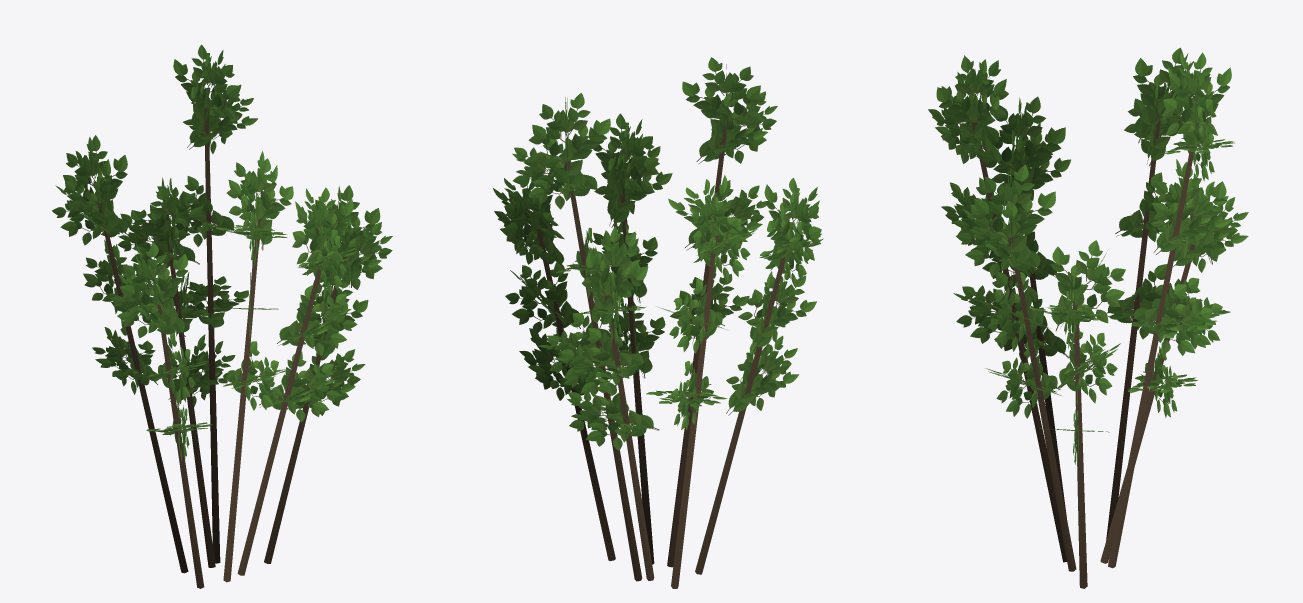
File: Tall Shrub 06.glb
3 views of the same model, side by side, from view 1: azimuth 30°, elevation 25°; view 2: azimuth 150°, elevation 25°; view 3: azimuth 270°, elevation 25° (orthographic). The views are drawn at different scales.
Parts seen in each view (by area): view 1: Tall Shrub 06; view 2: Tall Shrub 06; view 3: Tall Shrub 06.
Part boxes in pixels (x1,y1,x2,y2): Tall Shrub 06: (52, 44, 392, 588); Tall Shrub 06: (493, 57, 823, 588); Tall Shrub 06: (928, 47, 1248, 588).
Bounding box in the file's own units: 1.92 × 2.59 × 1.71.
1 material, 1 textured.
